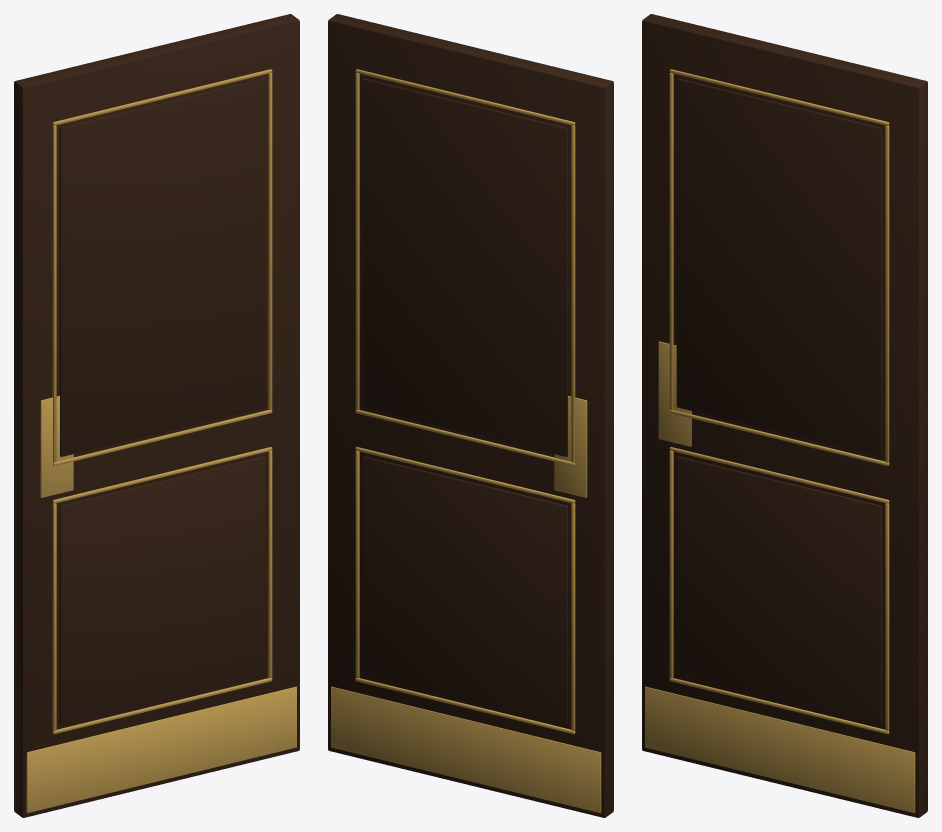
File: door_grand.glb
3 views of the same model, side by side, from view 1: azimuth 30°, elevation 25°; view 2: azimuth 150°, elevation 25°; view 3: azimuth 330°, elevation 25° (orthographic).
Parts seen in each view (by area): view 1: door_grand; view 2: door_grand; view 3: door_grand.
Part boxes in pixels (x1,y1,x2,y2): door_grand: (14,14,299,817); door_grand: (328,14,613,817); door_grand: (642,14,927,817).
Bounding box in the file's own units: 1.19 × 3 × 0.094.
